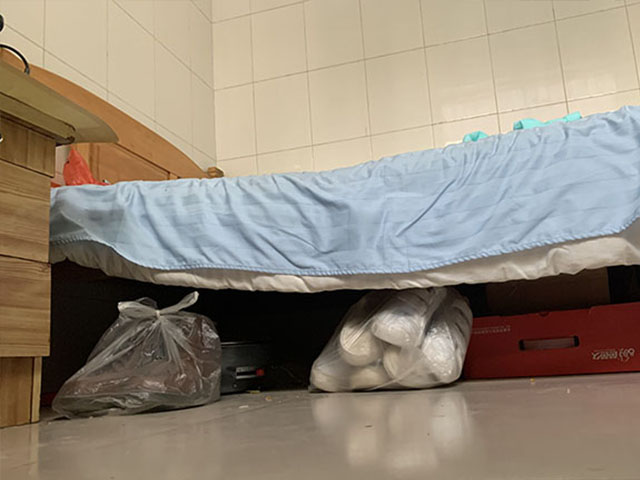bed: (65, 86, 640, 401)
cabinet: (1, 117, 58, 430)
